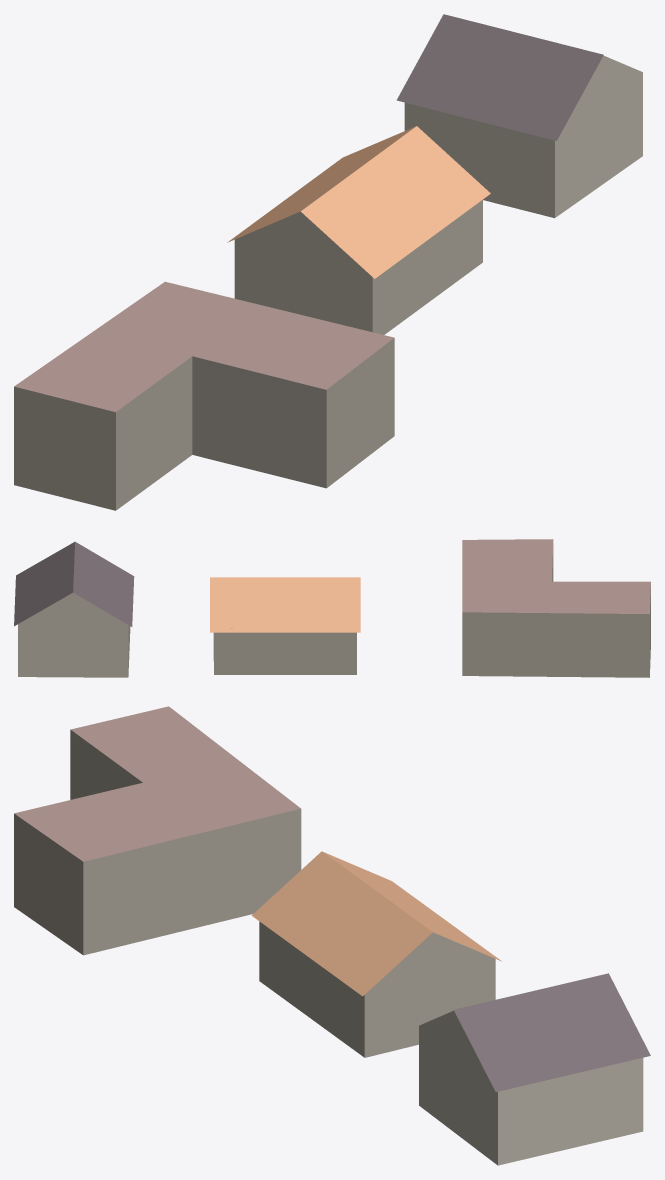
The picture shows the model from 3 angles, top to bottom: view 1: azimuth 30°, elevation 25°; view 2: azimuth 150°, elevation 25°; view 3: azimuth 270°, elevation 25°; orthographic projection. The views are drawn at different scales.
Visible parts, largest first — view 1: tuile; view 2: tuile; view 3: tuile.
Boxes of the visible parts, x1=… form: tuile: x1=14, y1=14, x2=642, y2=510; tuile: x1=14, y1=539, x2=650, y2=677; tuile: x1=14, y1=706, x2=650, y2=1165.
Bounding box in the file's own units: 54.98 × 9.1 × 39.48.
